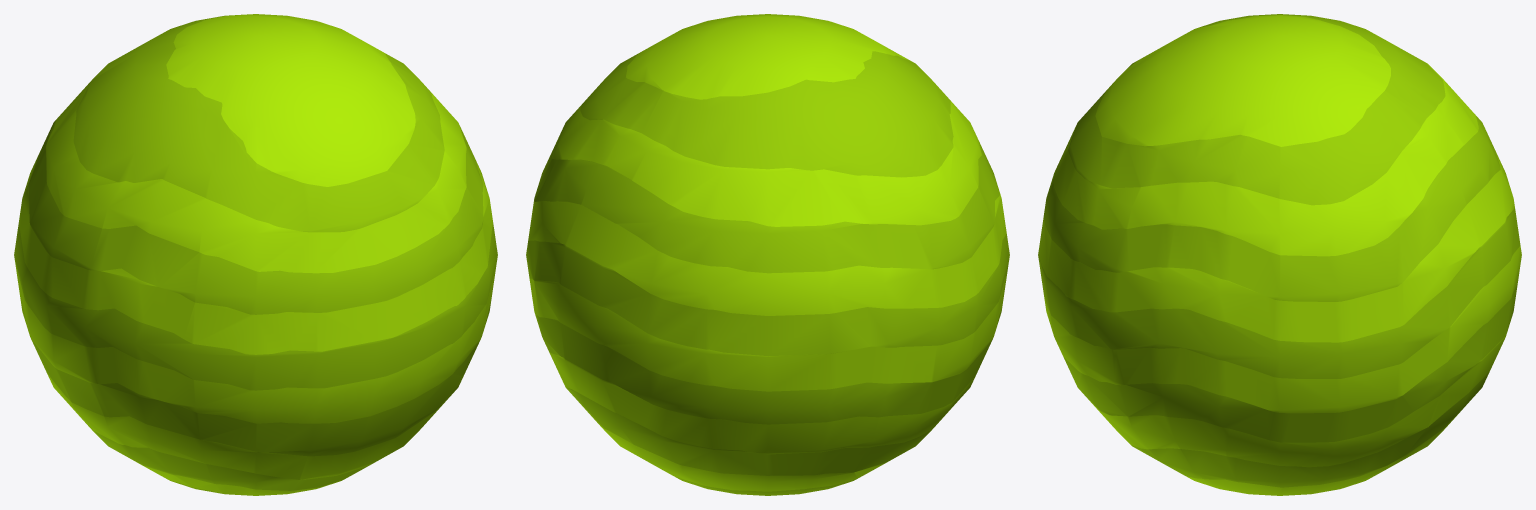
File: Stripes - vert.fbx
3 views of the same model, side by side, from view 1: azimuth 30°, elevation 25°; view 2: azimuth 150°, elevation 25°; view 3: azimuth 270°, elevation 25° (orthographic).
Parts seen in each view (by area): view 1: SketchUp.001; view 2: SketchUp.001; view 3: SketchUp.001.
Boxes of the visible parts, x1,y1,x2,y2 form: SketchUp.001: [14, 14, 497, 495]; SketchUp.001: [526, 14, 1009, 495]; SketchUp.001: [1038, 14, 1521, 495].
Bounding box in the file's own units: 100 × 100 × 100.
